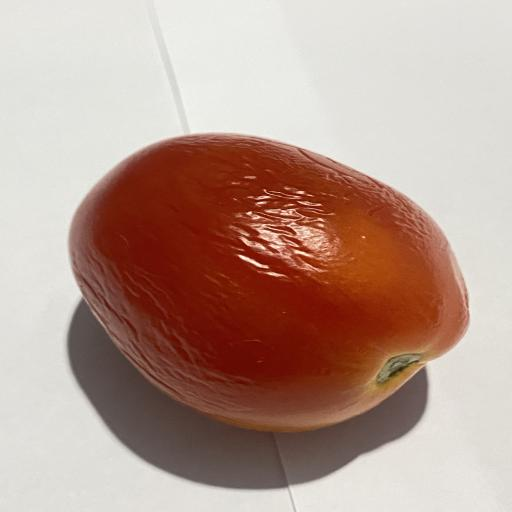spoiled: (70, 133, 468, 431), (206, 231, 220, 245)
